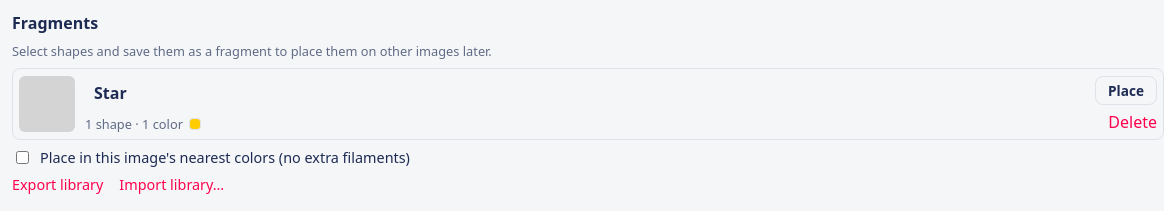
Test case: FragmentsPanel › renames in place and keeps the old name when emptied
Replace the text in the field named "Name of fragment Star" with "Big star" at (585, 93), box 85,75 -> 1085,111
Then press Enter
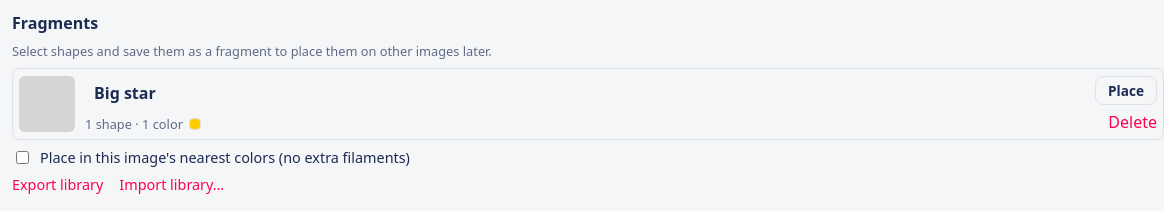
Clear the field named "Name of fragment Big star" at (585, 93), box 85,75 -> 1085,111
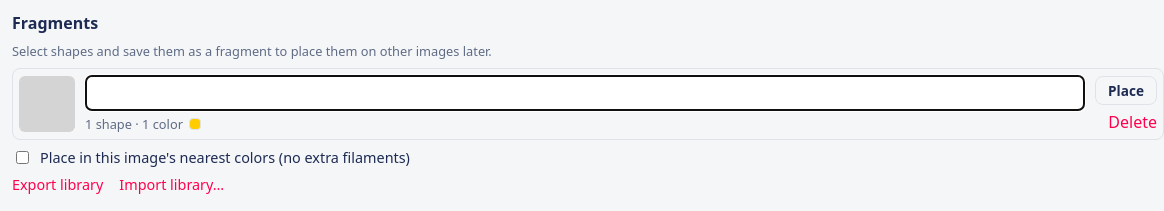
Press Tab
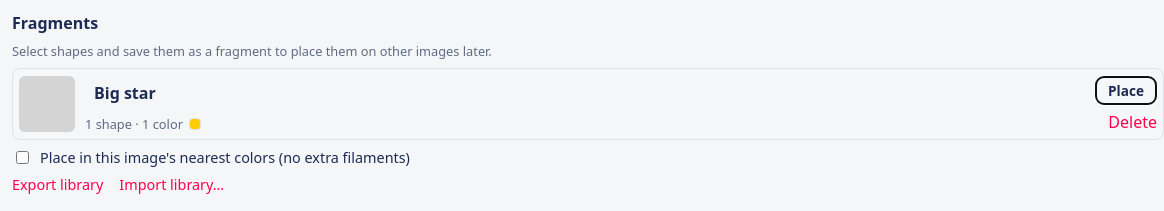
Check: the field named "Name of fragment Big star" holds "Big star", box 85,75 -> 1085,111
